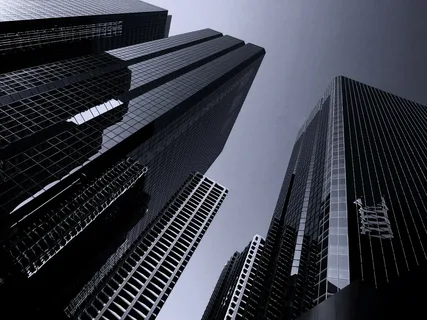high_rise_building: (282, 68, 406, 310), (162, 15, 263, 173)
